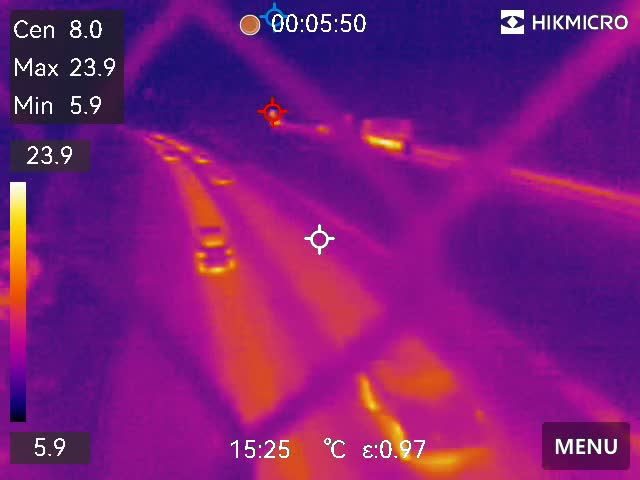heavyTruck: (358, 117, 423, 153)
